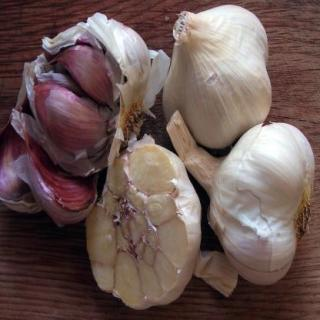Bawang Putih: (88, 146, 203, 307), (210, 122, 317, 285), (164, 6, 274, 150)
